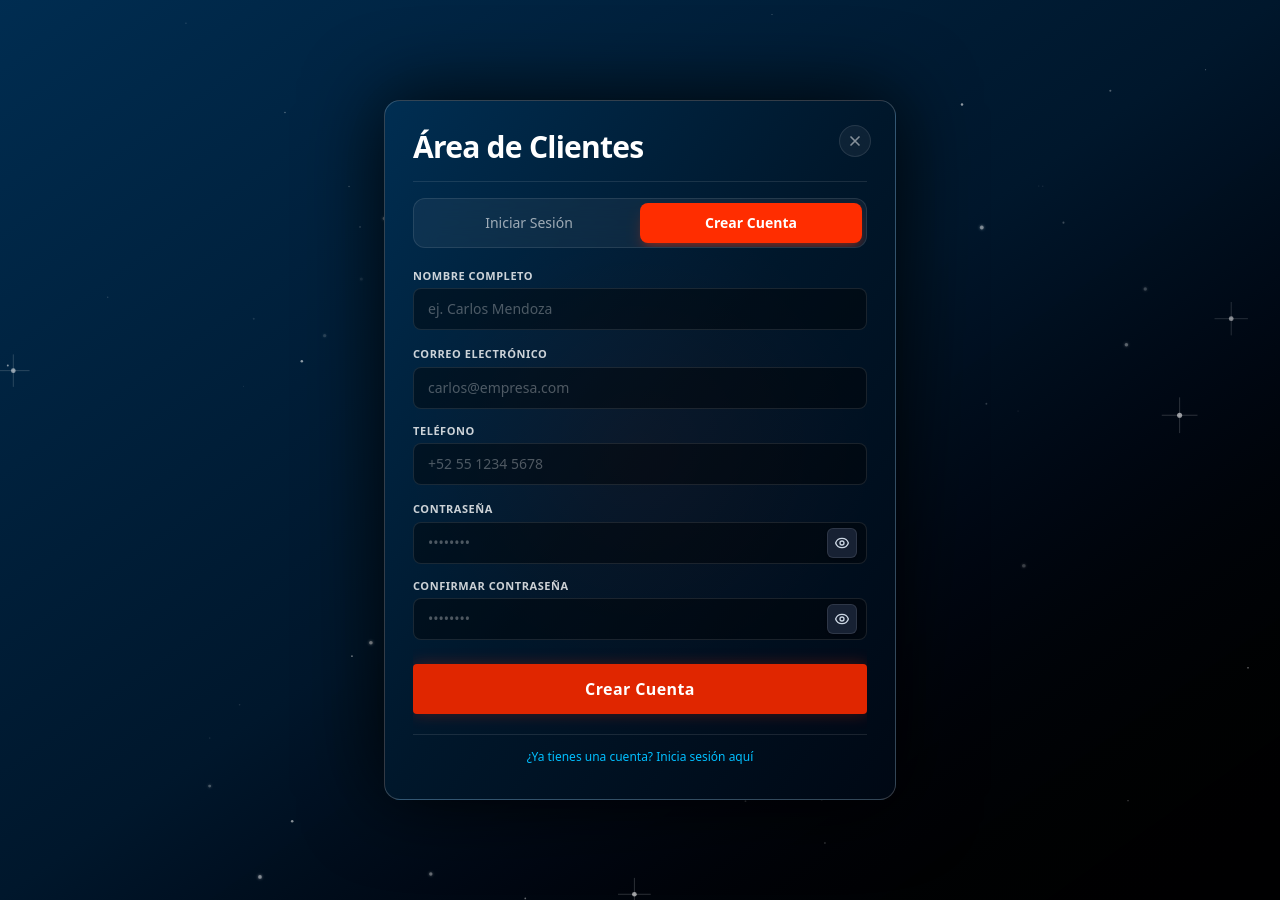
Test: AuthModal Component (100% Coverage Suite) › debe capturar errores en el registro y mostrar el mensaje correspondiente
The image size is (1280, 900).
Type "Existing User" into the field with placeholder "ej. Carlos Mendoza" at (640, 309), box x1=413 y1=288 x2=867 y2=330
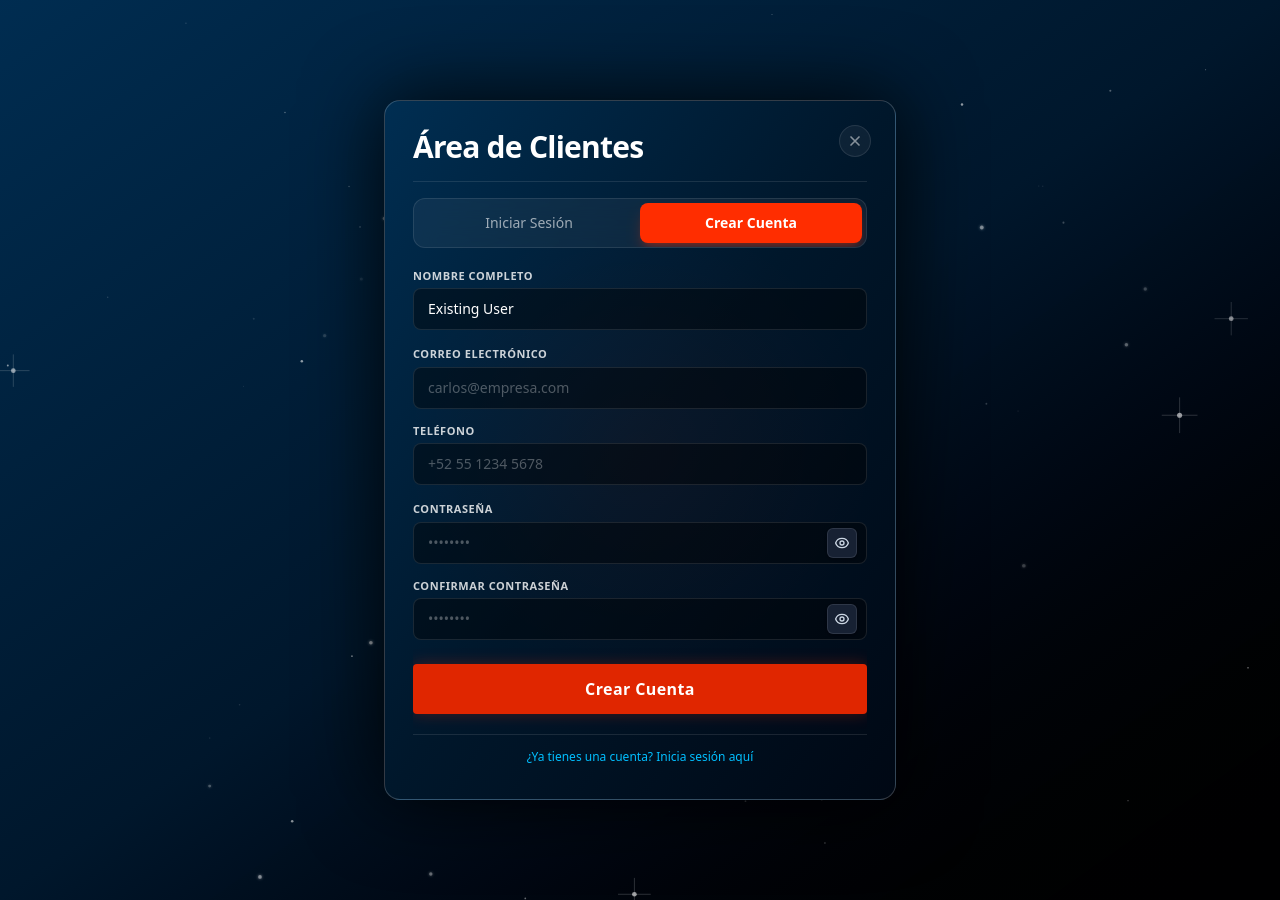
Type "existing@example.com" into the field with placeholder "carlos@empresa.com" at (640, 388), box x1=413 y1=367 x2=867 y2=409
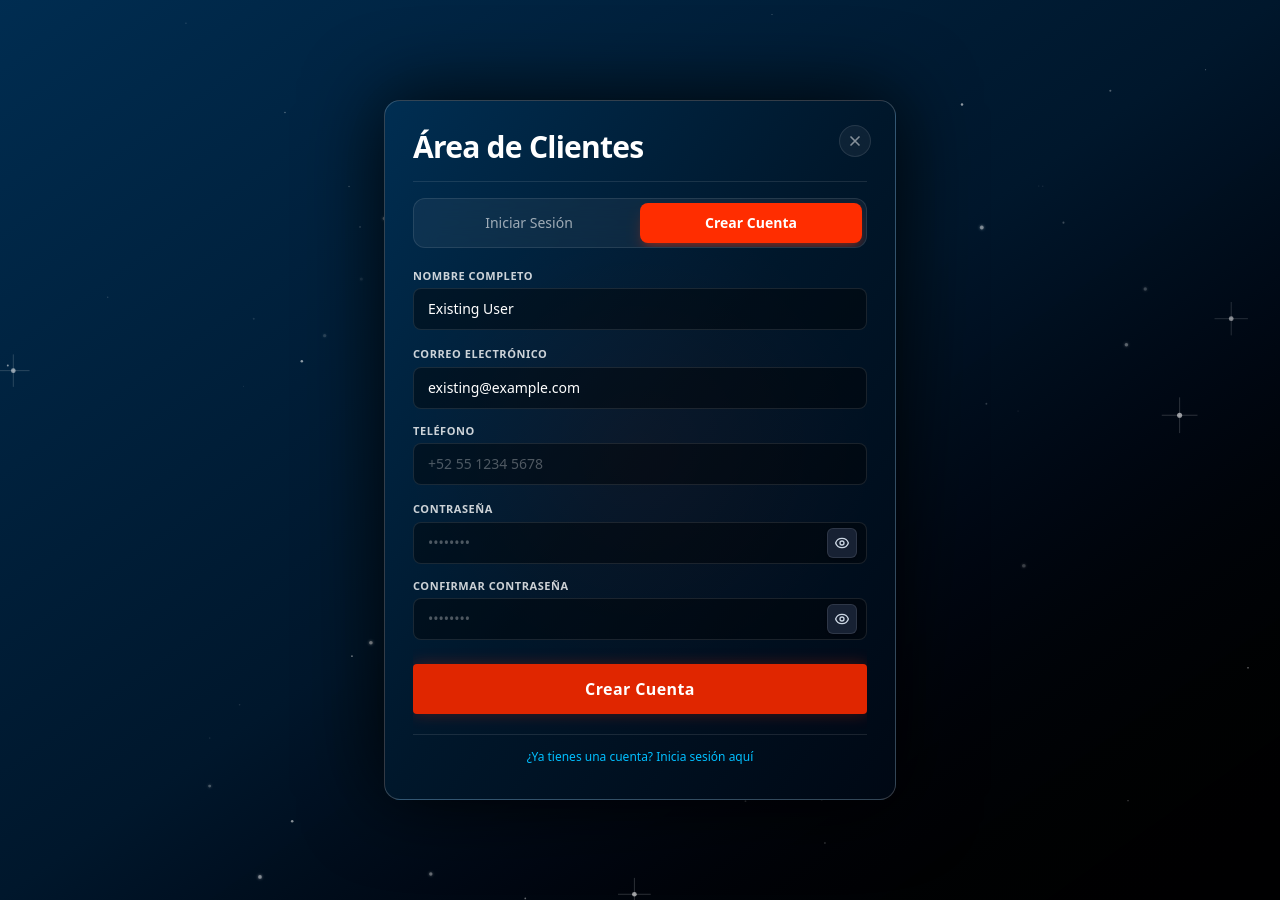
Type "secret123" into the 1st password field with placeholder "••••••••" at (640, 543), box x1=413 y1=522 x2=867 y2=564
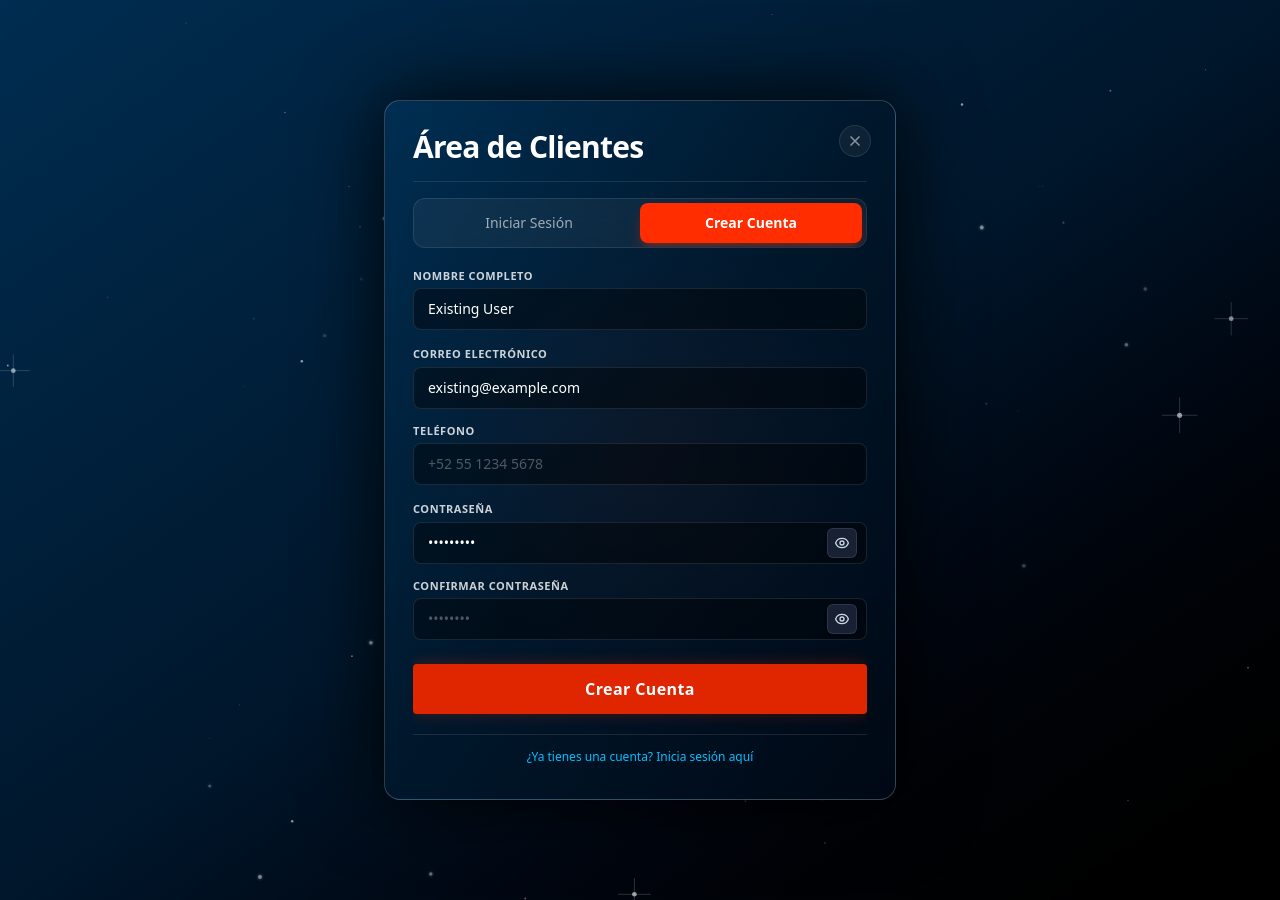
Type "secret123" into the password field with placeholder "••••••••" at (640, 619), box x1=413 y1=598 x2=867 y2=640
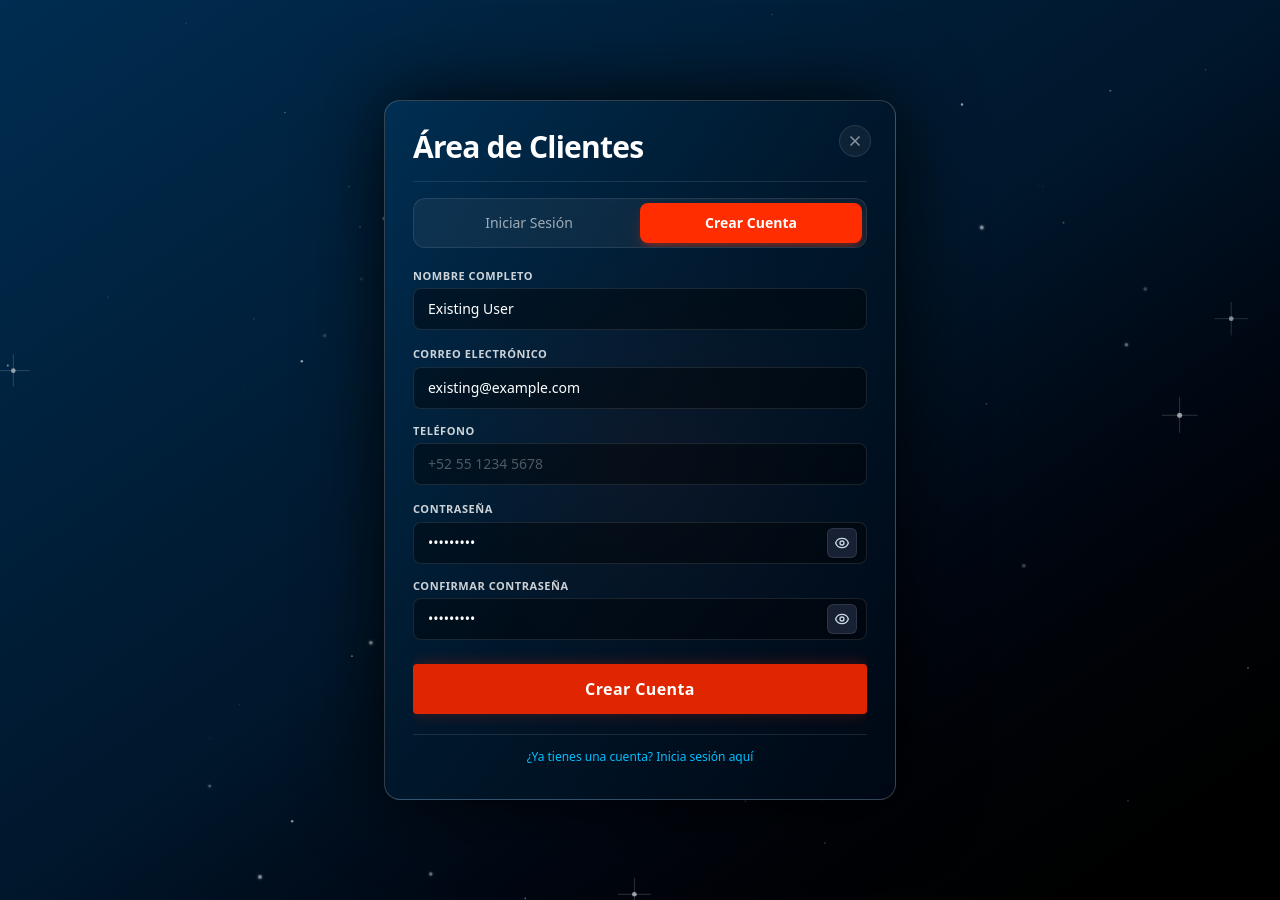
Click the button "Crear Cuenta" below "Confirmar Contraseña" at (640, 689), box x1=413 y1=664 x2=867 y2=714
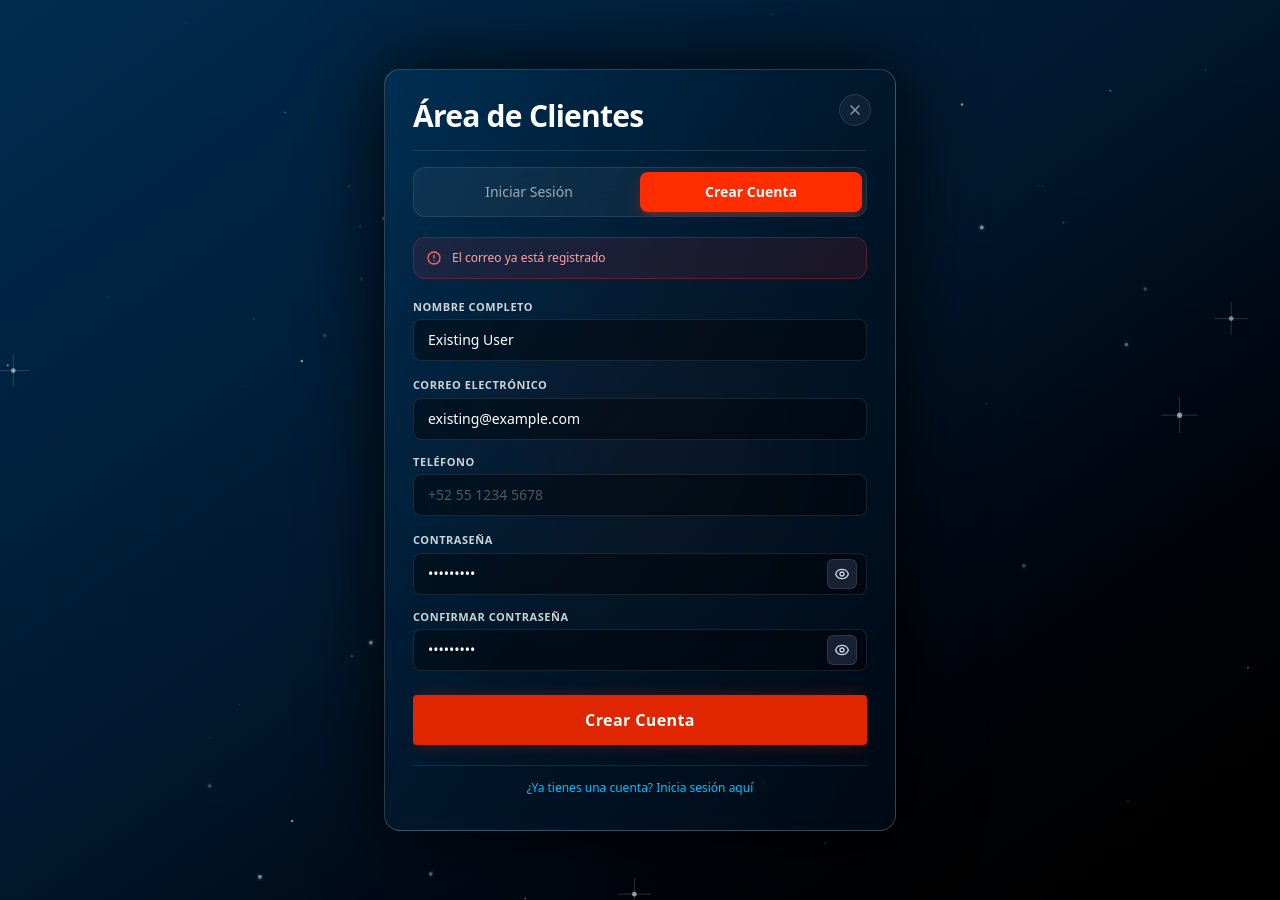
Result: the text "El correo ya está registrado" is shown at x1=452 y1=250 x2=606 y2=266
